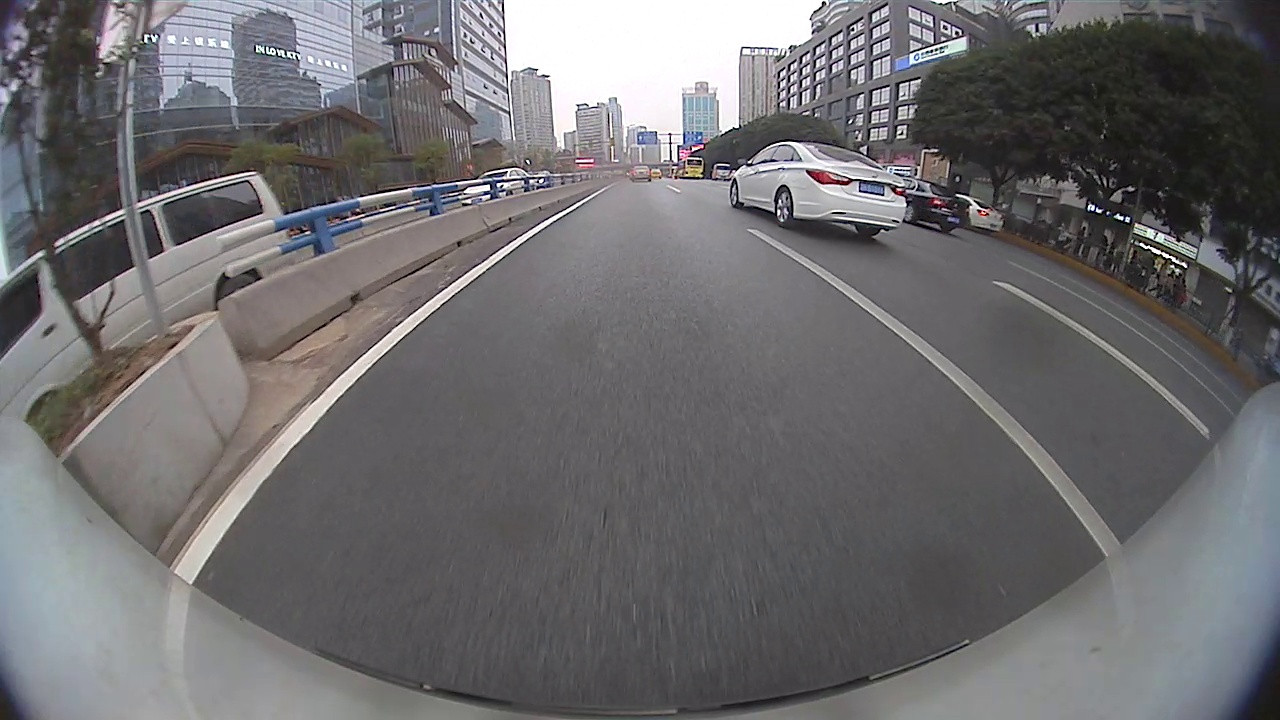car: (1, 169, 293, 424), (728, 139, 910, 239), (905, 176, 973, 236), (456, 166, 538, 208)
front: (730, 184, 742, 207)
rear: (772, 190, 793, 229), (903, 206, 916, 228)
